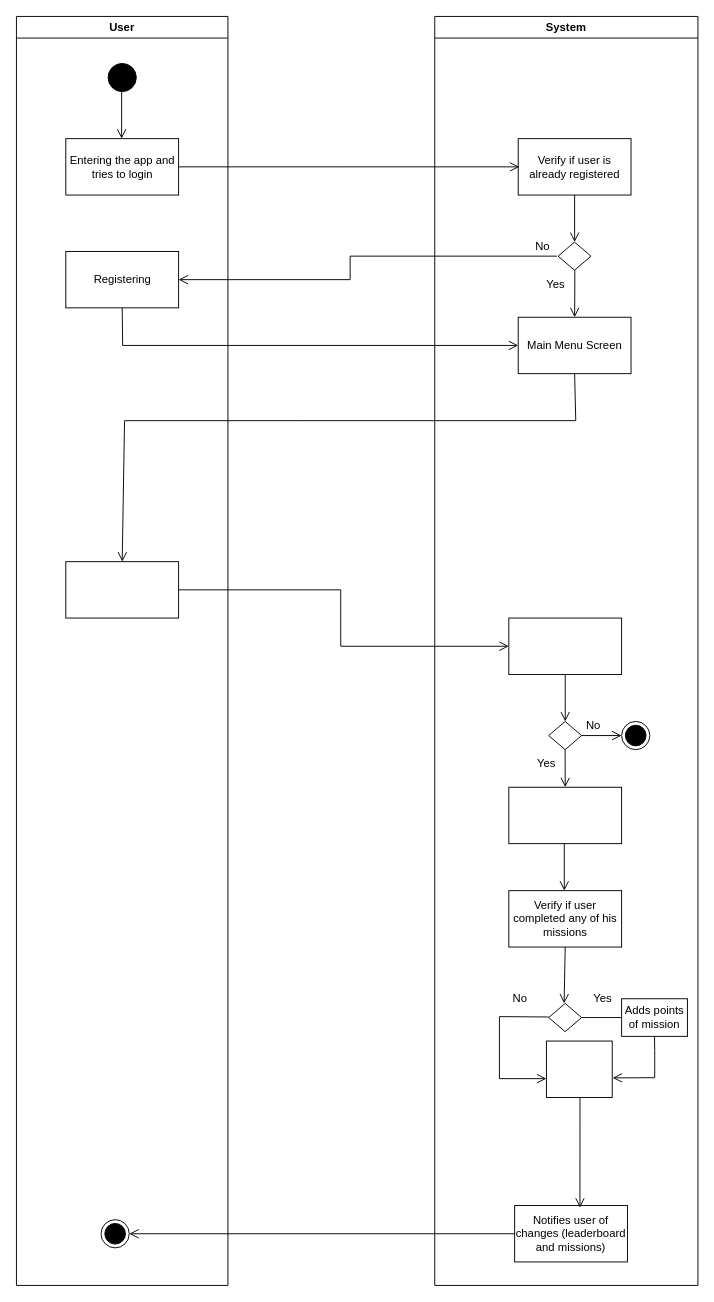
Image size: 714x1302. Some labels were removed from this diagram. The shapes that lost their labels are listed below. From the top down, each one's box as (x1, y1, x2, y2) in pixels, then its label:
(65, 561, 179, 618): Start of a trip in the app
(508, 617, 622, 674): Verify if user is doing the path of the selected trip
(508, 786, 622, 844): Calculates how manny points to give User based on distance travelled
(545, 1040, 612, 1097): Updates Leaderboard And User Points
